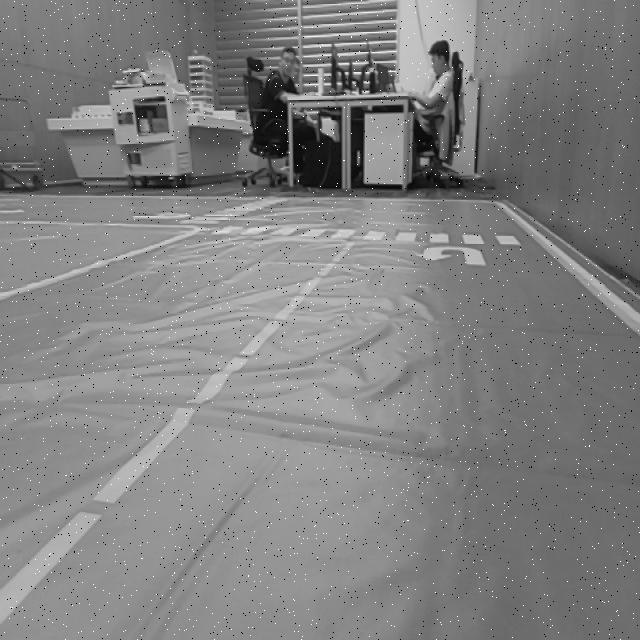left_lane: (0, 242, 356, 626)
right_lane: (495, 202, 640, 336)
